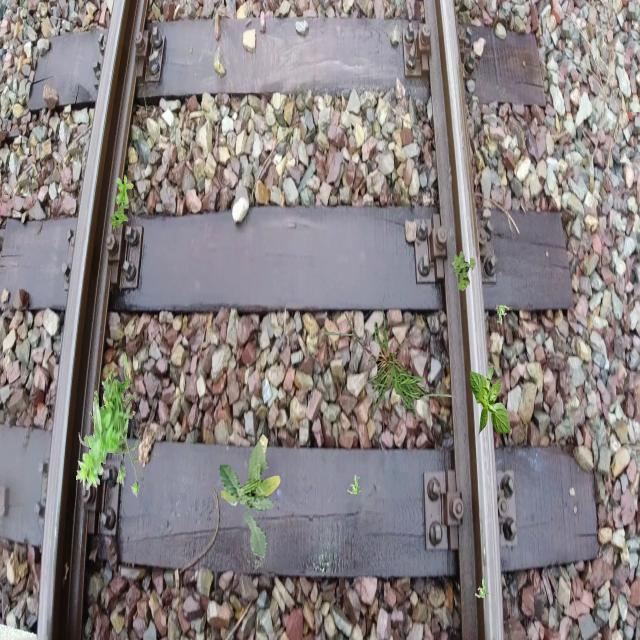Plant: (321, 301, 464, 421), (76, 354, 140, 498), (219, 434, 282, 558), (470, 365, 512, 436), (452, 251, 476, 292), (110, 199, 130, 232), (116, 175, 134, 207), (496, 305, 510, 326), (475, 578, 489, 598), (348, 474, 362, 494)
